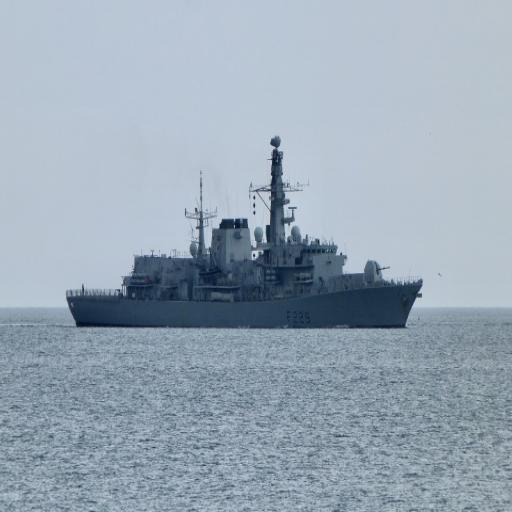Fragata: (65, 129, 428, 331)
